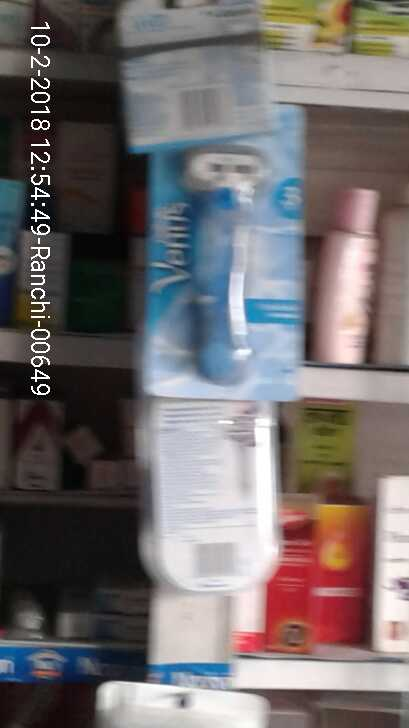venus: (162, 147, 296, 392)
